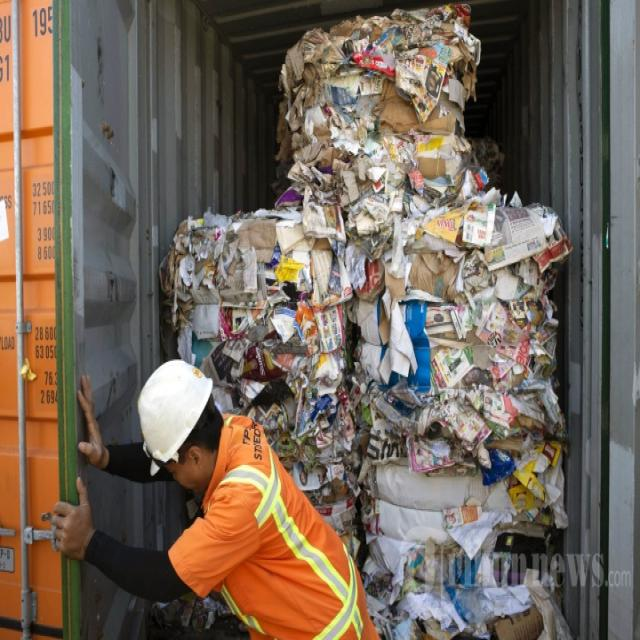Kertas: (182, 36, 580, 615)
